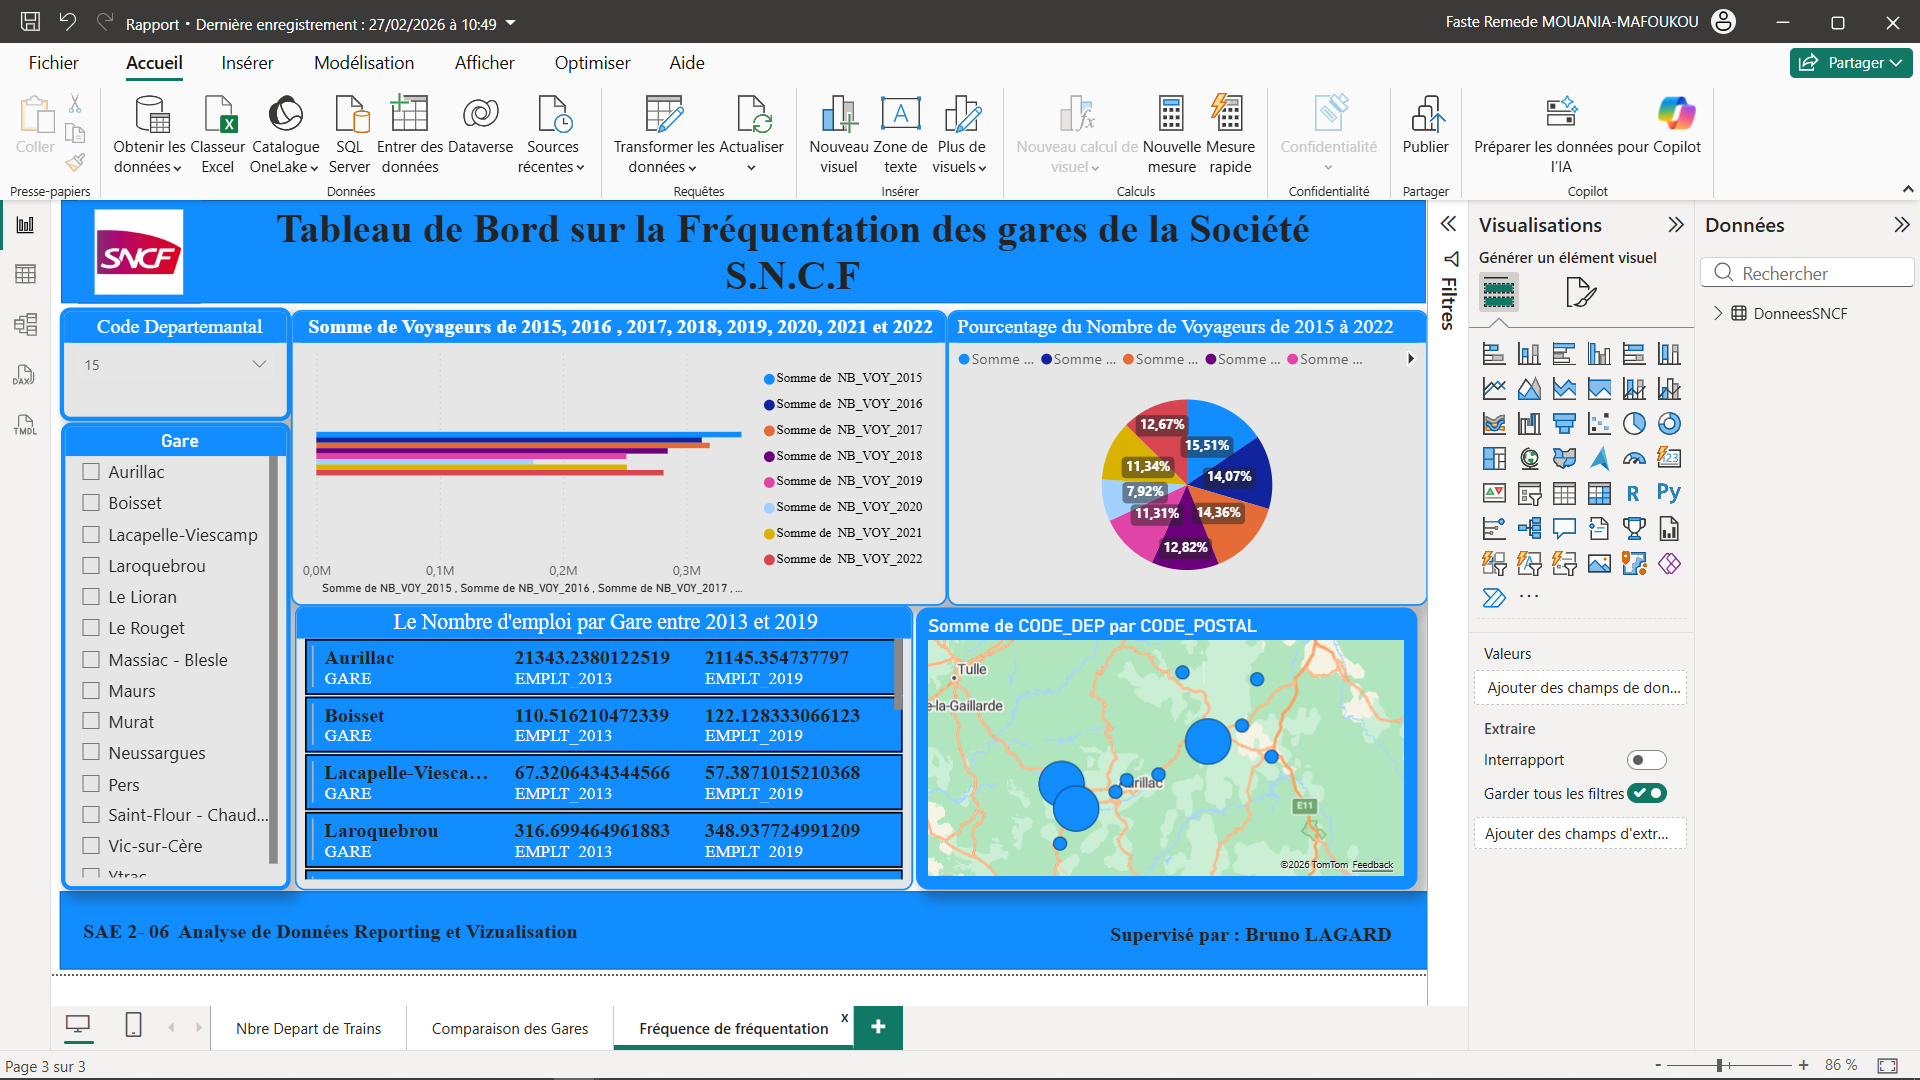

The page's visual inventory and layout, read from the dashboard file:
{"tool":"powerbi","page":{"name":"Fréquence de fréquentation ","canvas":[1280,720],"ordinal":2},"visuals":[{"type":"shape","box":[9.4,0,1269.9,96.4],"z":0},{"type":"shape","box":[8.1,642.8,1272.7,72.9],"z":1000},{"type":"textbox","box":[147.4,0,1084.7,96.4],"z":2000},{"type":"image","box":[19.4,0,124.7,97.2],"z":3000},{"type":"textbox","box":[8.1,665.5,508.4,34],"z":4000},{"type":"slicer","title":"Code Departemantal","fields":{"Values":["DonneesSNCF.CODE_DEP"]},"box":[8.1,100.4,215.4,105.2],"z":5000},{"type":"slicer","title":"Gare","fields":{"Values":["DonneesSNCF.GARE"]},"box":[9.7,207.3,213.7,435.6],"z":6000},{"type":"clusteredBarChart","title":"Somme de Voyageurs de 2015, 2016 , 2017, 2018, 2019,  2020, 2021 et 2022 ","fields":{"Y":["Sum(DonneesSNCF. NB_VOY_2015 )","Sum(DonneesSNCF. NB_VOY_2016 )","Sum(DonneesSNCF. NB_VOY_2017 )","Sum(DonneesSNCF. NB_VOY_2018 )","Sum(DonneesSNCF. NB_VOY_2019 )","Sum(DonneesSNCF. NB_VOY_2020 )","Sum(DonneesSNCF. NB_VOY_2021 )","Sum(DonneesSNCF. NB_VOY_2022 )"]},"box":[223.5,102,610.4,275.3],"z":7000},{"type":"pieChart","title":"Pourcentage du Nombre de Voyageurs de 2015 à 2022 ","fields":{"Y":["Sum(DonneesSNCF. NB_VOY_2015 )","Sum(DonneesSNCF. NB_VOY_2016 )","Sum(DonneesSNCF. NB_VOY_2017 )","Sum(DonneesSNCF. NB_VOY_2018 )","Sum(DonneesSNCF. NB_VOY_2019 )","Sum(DonneesSNCF. NB_VOY_2020 )","Sum(DonneesSNCF. NB_VOY_2021 )","Sum(DonneesSNCF. NB_VOY_2022 )"]},"box":[833.9,102,446.9,275.3],"z":8000},{"type":"textbox","box":[961.8,667.1,309.3,34],"z":9000},{"type":"multiRowCard","title":"Le Nombre d''emploi par Gare entre 2013 et 2019","fields":{"Values":["DonneesSNCF.GARE","DonneesSNCF.EMPLT_2013","DonneesSNCF.EMPLT_2019"]},"box":[226.7,377.3,574.8,265.6],"z":10000},{"type":"map","fields":{"Size":["Sum(DonneesSNCF.CODE_DEP)"],"Category":["DonneesSNCF.CODE_POSTAL"]},"box":[804.8,378.9,466.3,262.3],"z":11000}]}

Visuals, with their boxes on the page's 1280x720 design canvas (x1, y1, x2, y2). These are canvas units, not pixel positions in the 1920x1080 screenshot, which may show the page scaled, cropped or inside an application window:
shape: crop(9, 0, 1279, 96)
shape: crop(8, 643, 1281, 716)
textbox: crop(147, 0, 1232, 96)
image: crop(19, 0, 144, 97)
textbox: crop(8, 666, 516, 700)
"Code Departemantal" slicer: crop(8, 100, 224, 206)
"Gare" slicer: crop(10, 207, 223, 643)
"Somme de Voyageurs de 2015, 2016 , 2017, 2018, 2019,  2020, 2021 et 2022 " clusteredBarChart: crop(224, 102, 834, 377)
"Pourcentage du Nombre de Voyageurs de 2015 à 2022 " pieChart: crop(834, 102, 1281, 377)
textbox: crop(962, 667, 1271, 701)
"Le Nombre d''emploi par Gare entre 2013 et 2019" multiRowCard: crop(227, 377, 802, 643)
map - Sum(DonneesSNCF.CODE_DEP) x DonneesSNCF.CODE_POSTAL: crop(805, 379, 1271, 641)
